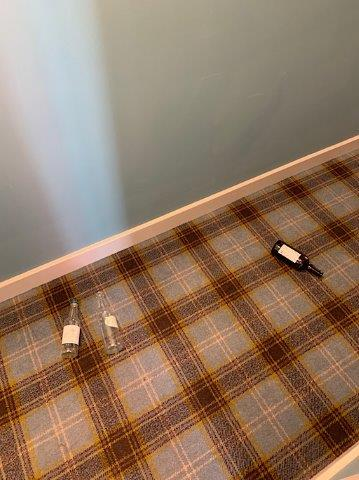botolkaca: (273, 241, 322, 277), (96, 292, 122, 353), (62, 301, 81, 357)
